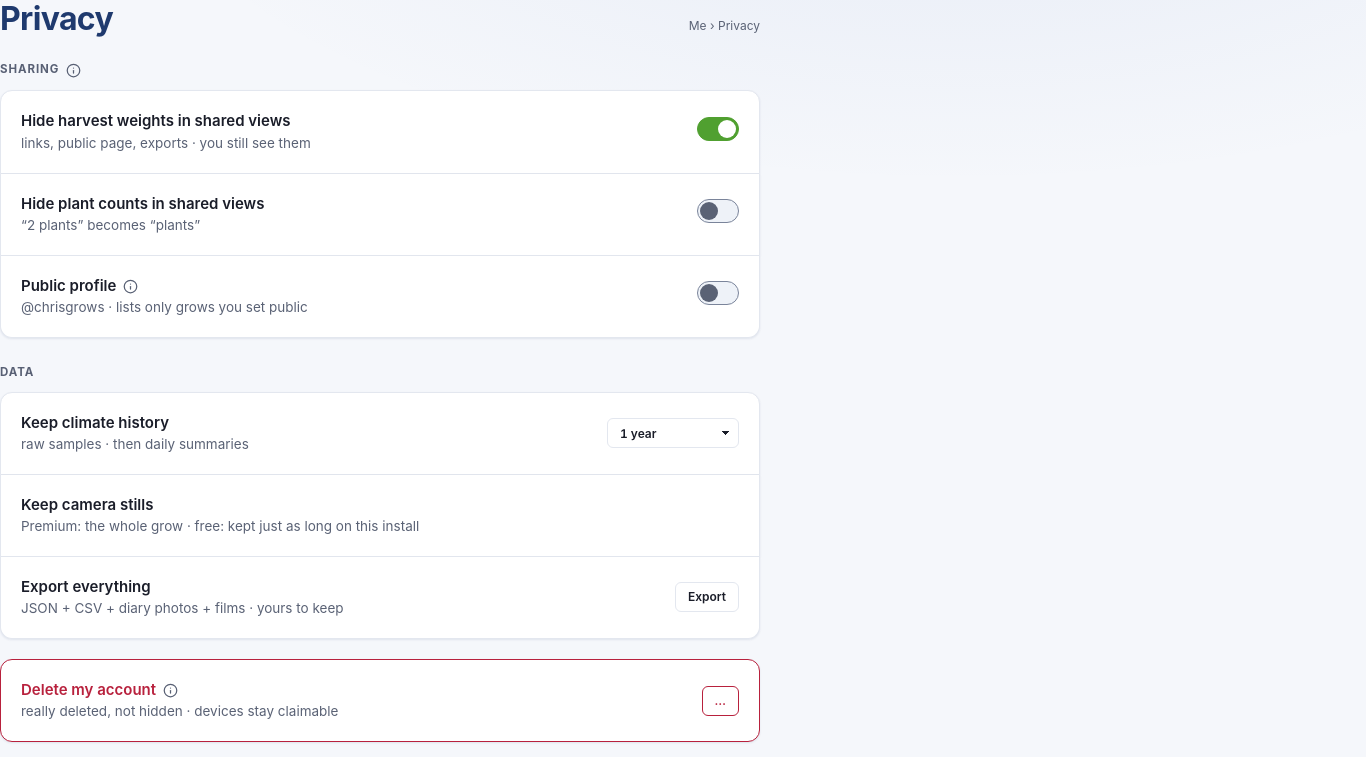
Test: how long anything is kept › asks before a narrower window, names what goes and from when, and writes only once told to keep it
The image size is (1366, 757).
Check: the switch named "Public profile" is shown, box x1=697 y1=282 x2=739 y2=306
Select "90 days" in the dropdown named "Keep climate history" at (673, 433), box x1=607 y1=418 x2=739 y2=448
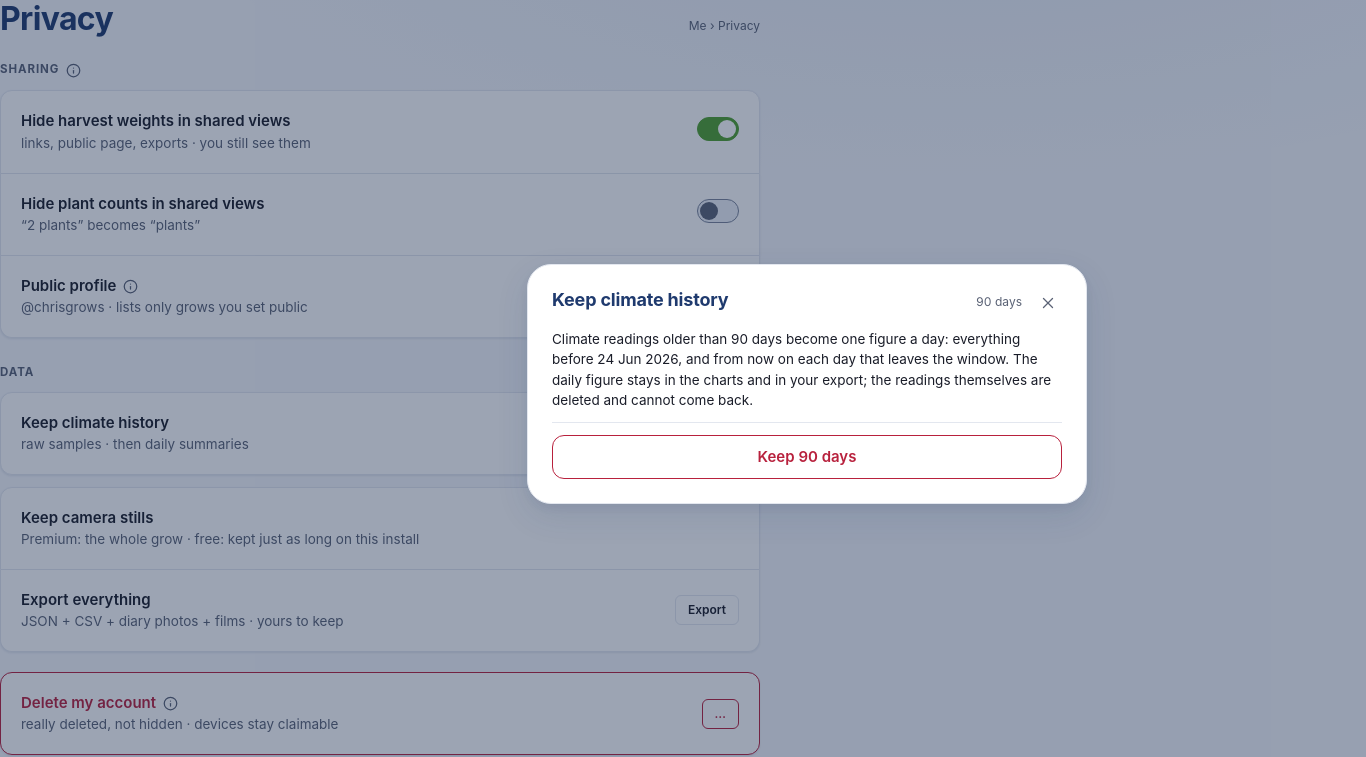
Check: the text "Climate readings older than 90 days become one figure a day: everything before 24 Jun 2026, and from now on each day tha" is shown, box x1=552 y1=331 x2=1051 y2=408
Click the button "Keep 90 days" at (807, 457), box x1=552 y1=435 x2=1062 y2=479
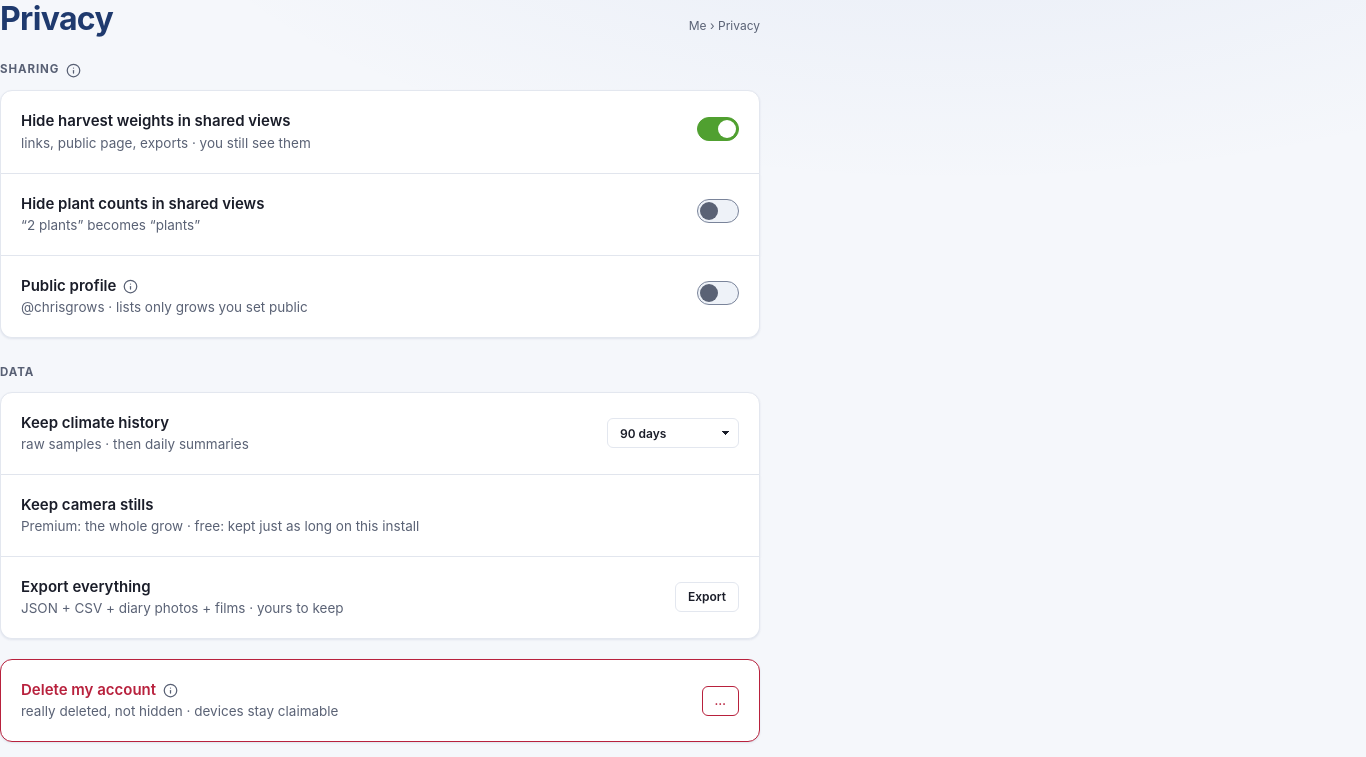
Check: the dialog is gone
